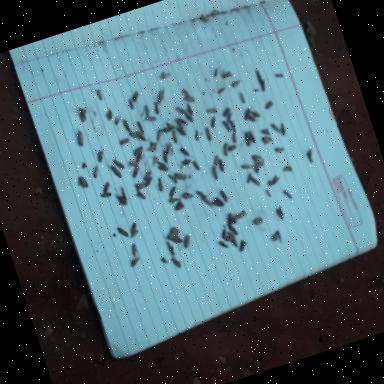pbw: (134, 184, 146, 202), (226, 230, 238, 248), (166, 226, 180, 240), (181, 234, 193, 250), (169, 233, 183, 246), (225, 212, 236, 228), (155, 90, 167, 104), (270, 230, 282, 244), (170, 256, 182, 270), (112, 164, 122, 180), (166, 240, 176, 256), (118, 225, 130, 238), (212, 196, 224, 209), (259, 77, 269, 92), (145, 112, 157, 124), (174, 170, 186, 182), (202, 194, 213, 207), (237, 239, 248, 252), (158, 160, 169, 173), (113, 158, 124, 171), (78, 108, 88, 122), (76, 132, 86, 146), (167, 186, 178, 198), (129, 256, 141, 267), (135, 130, 146, 142), (168, 172, 178, 185), (156, 176, 164, 192), (244, 132, 252, 148), (220, 190, 229, 204), (177, 124, 186, 138), (154, 129, 164, 141), (134, 150, 144, 162), (129, 222, 139, 234), (132, 146, 144, 156), (96, 150, 106, 162), (183, 94, 195, 104), (172, 200, 184, 210), (142, 177, 154, 187), (130, 166, 140, 178), (222, 143, 231, 156), (222, 118, 230, 132), (170, 129, 178, 143), (124, 119, 132, 133), (102, 182, 112, 193), (250, 176, 260, 187), (163, 144, 174, 154), (208, 116, 218, 127), (221, 107, 231, 118), (180, 146, 189, 158), (230, 225, 238, 238), (186, 103, 194, 116), (92, 165, 100, 178), (270, 176, 280, 186), (148, 142, 158, 152), (131, 92, 140, 103), (121, 187, 128, 201), (248, 130, 255, 144), (100, 190, 112, 198), (204, 128, 212, 140), (153, 102, 161, 114), (218, 159, 225, 172), (212, 167, 219, 180), (142, 172, 152, 181), (282, 165, 292, 174), (225, 234, 236, 242), (119, 137, 130, 145), (95, 90, 103, 101), (272, 123, 280, 134), (193, 160, 200, 172), (130, 230, 139, 239), (262, 136, 272, 144), (222, 70, 232, 78), (186, 113, 194, 123), (264, 101, 274, 109), (275, 146, 285, 154), (136, 182, 146, 190), (225, 112, 233, 122), (230, 80, 240, 88), (181, 158, 191, 166), (280, 123, 286, 136), (162, 153, 169, 164), (193, 130, 200, 141), (128, 160, 137, 168), (220, 240, 228, 249), (179, 118, 188, 126), (252, 218, 262, 225), (241, 163, 251, 170), (144, 105, 150, 116), (161, 127, 172, 133), (262, 128, 270, 136), (132, 248, 138, 258), (228, 144, 236, 151), (208, 108, 216, 114)
